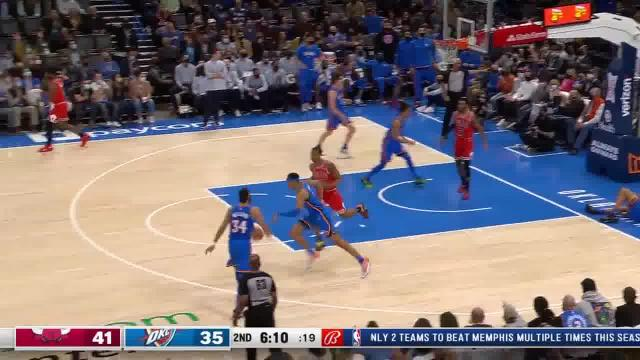ball-handler: (254, 172, 372, 282)
player: (206, 187, 272, 320), (364, 105, 427, 192), (439, 98, 487, 200), (38, 66, 90, 154), (309, 145, 370, 220), (320, 72, 356, 160)
